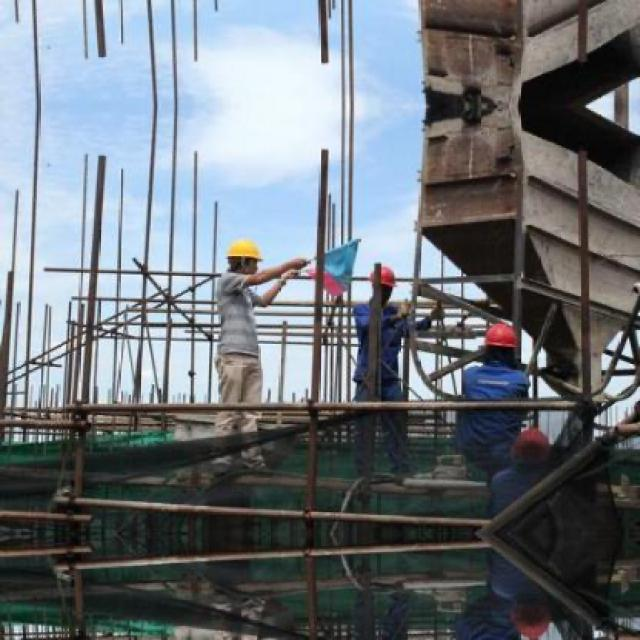helmet: (225, 233, 266, 279), (509, 426, 549, 470), (509, 597, 551, 638), (483, 319, 523, 361), (372, 260, 397, 300)
